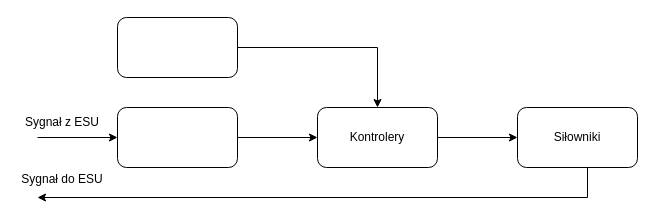
This 655x223 diagram has some shape labels left out. The centre of each missing label's shape, as x and y in pixels:
"Czujniki" goes at (x=177, y=137).
"Limitery" goes at (x=177, y=47).
